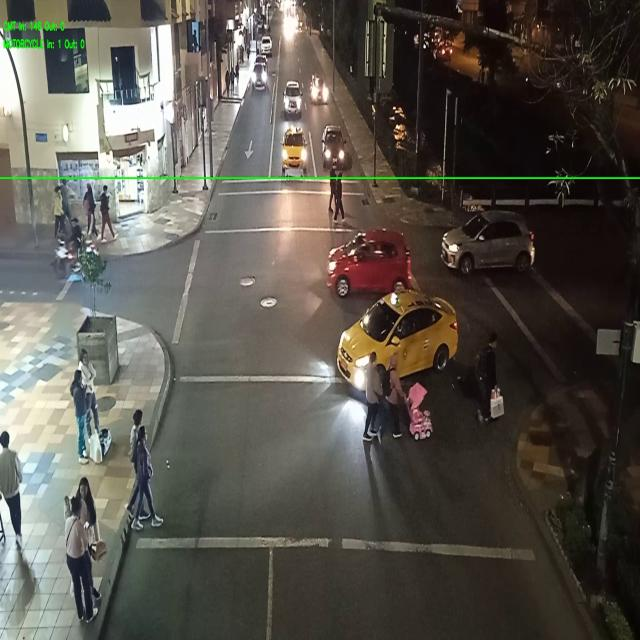MOTORCYCLE: (54, 234, 99, 280)
SED: (341, 297, 447, 389), (330, 230, 406, 293)
SUV: (442, 215, 531, 269), (284, 82, 302, 118), (252, 65, 266, 88), (261, 37, 271, 56)
